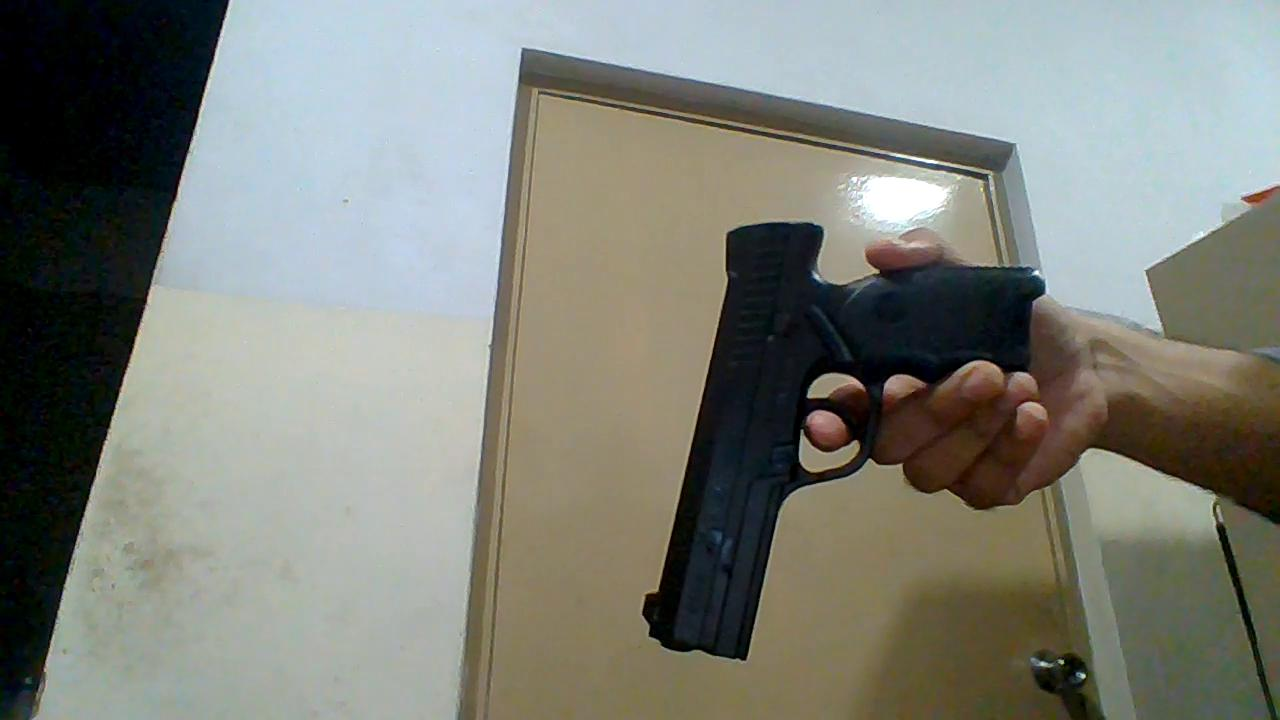weapon: (639, 217, 1047, 663)
